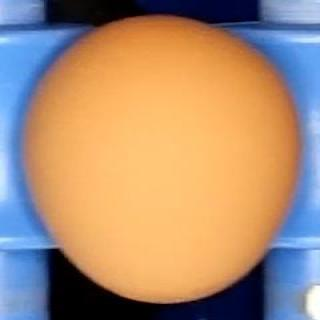Telur: (16, 12, 306, 306)
